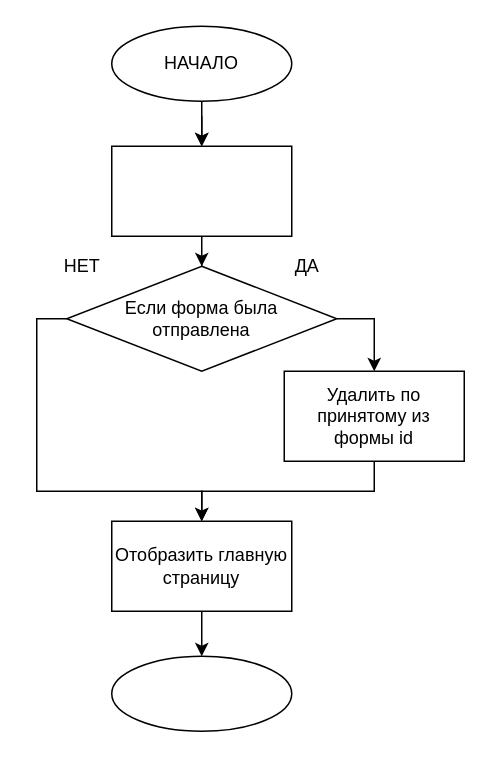
Some shapes in this 491 by 758 pixel diagram are drawn without their labels. The shapes that lost their labels are listed below. From the top down, each one's centre as x and y in pixels, then its label:
point (201, 190): Обновить csrf токен
point (201, 693): КОНЕЦ
